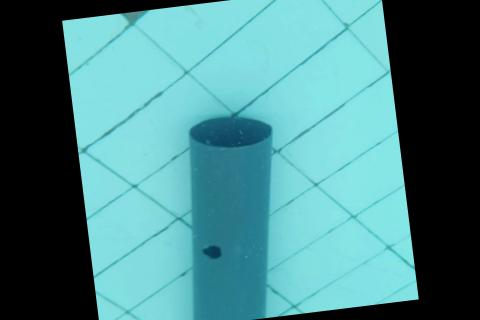kebocoran: (201, 243, 223, 261)
